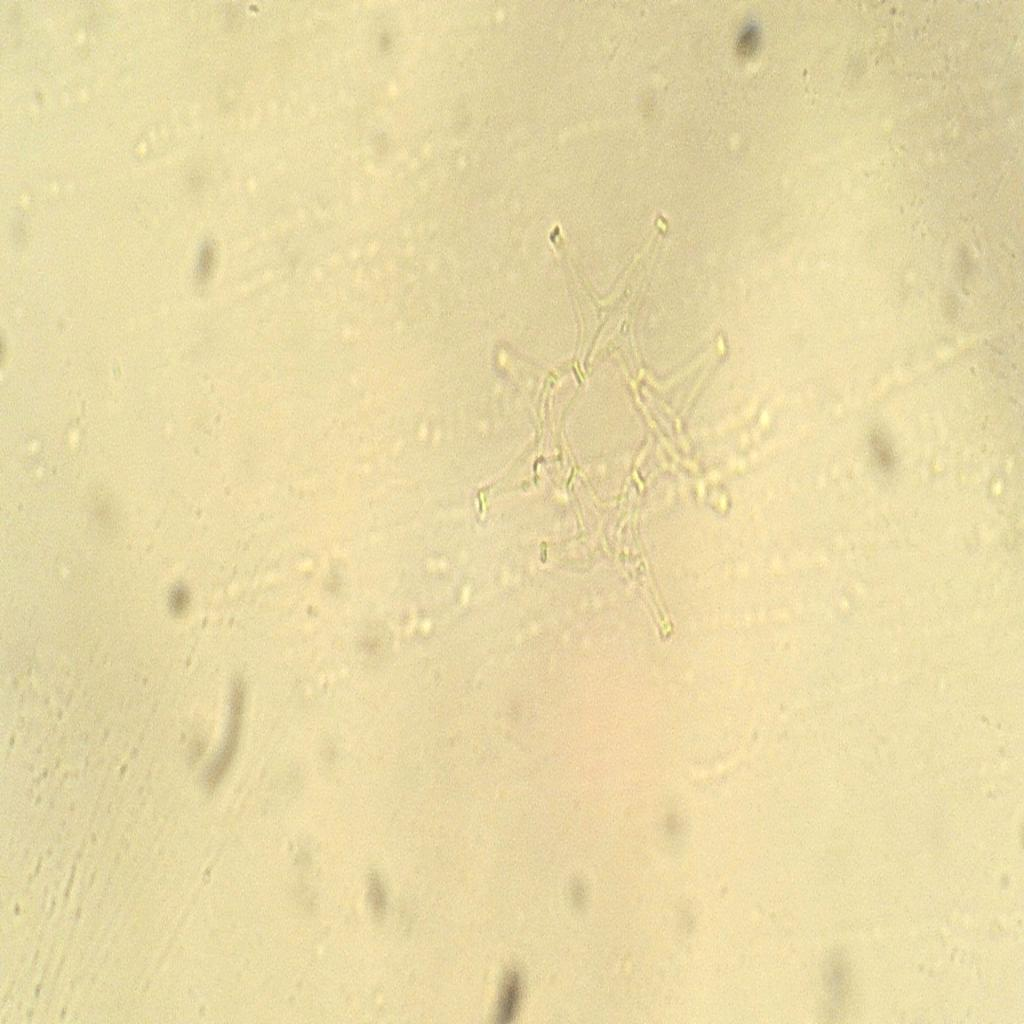Pediastrum_75TH: (455, 197, 747, 670)
